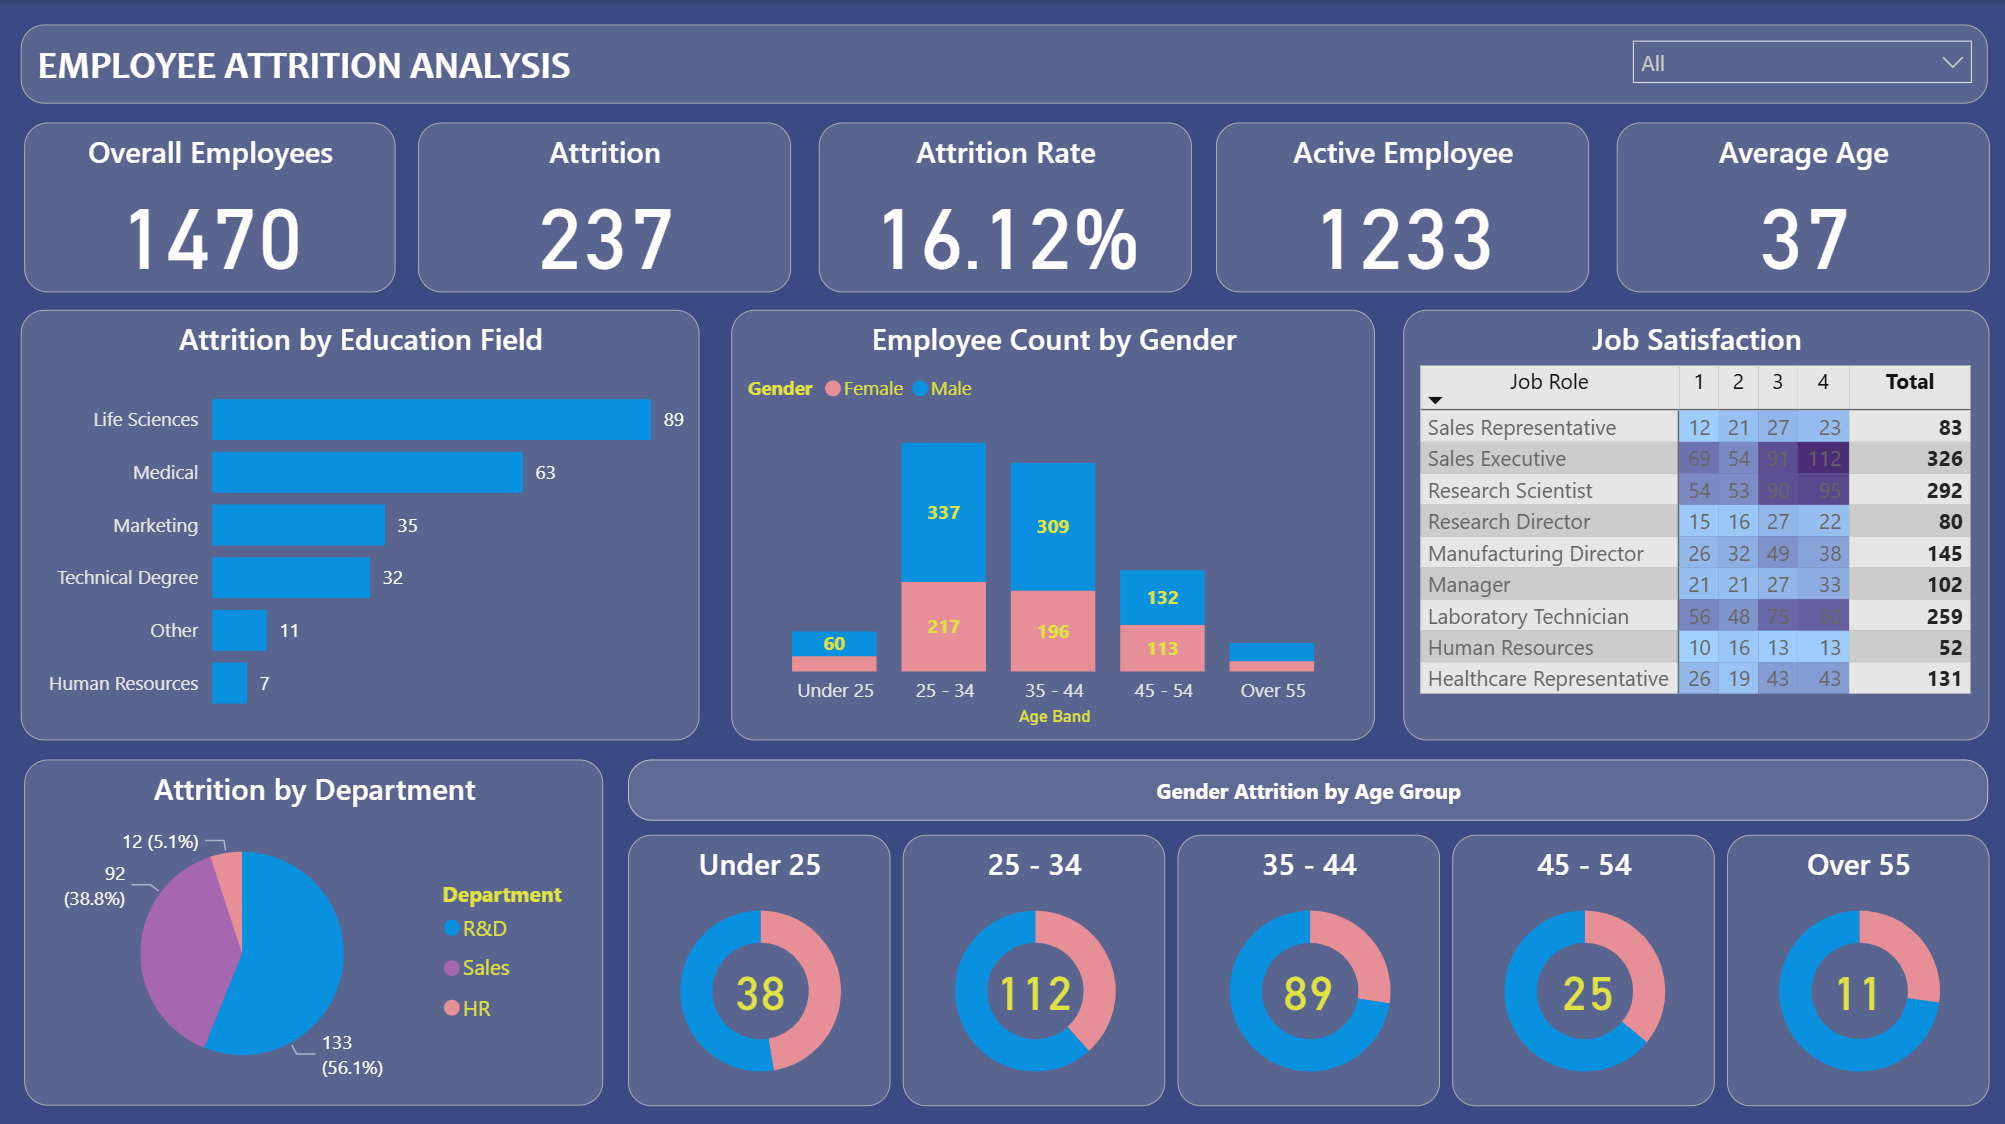

This screenshot's page, from the dashboard's own definition file:
{"tool":"powerbi","page":{"name":"Page 1","canvas":[1280,720],"ordinal":0},"visuals":[{"type":"textbox","box":[14.5,15.6,1250.3,50.1],"z":0},{"type":"card","title":"Overall Employees","fields":{"Values":["Sum(HR data.Employee Count)"]},"box":[16.7,77.9,235.8,107.9],"z":1000},{"type":"card","title":"Attrition","fields":{"Values":["Sum(HR data.Attrion Count)"]},"box":[267,77.9,236.9,107.9],"z":2000},{"type":"card","title":"Attrition Rate","fields":{"Values":["HR data.Attrition Rate"]},"box":[521.7,77.9,236.9,107.9],"z":3000},{"type":"card","title":"Active Employee","fields":{"Values":["HR data.Active Employees"]},"box":[774.2,77.9,236.9,107.9],"z":4000},{"type":"card","title":"Average Age","fields":{"Values":["Avg(HR data.Age)"]},"box":[1028.9,77.9,236.9,107.9],"z":5000},{"type":"pieChart","title":"Attrition by Department","fields":{"Category":["HR data.Department"],"Y":["Sum(HR data.Attrion Count)"]},"box":[16.7,482.8,368.2,220.2],"z":6000},{"type":"columnChart","title":"Employee Count by Gender","fields":{"Series":["HR data.Gender"],"Category":["HR data.CF_age band"],"Y":["CountNonNull(HR data.Gender)"]},"box":[466.1,196.9,409.3,273.6],"z":7000},{"type":"pivotTable","title":"Job Satisfaction","fields":{"Rows":["HR data.Job Role"],"Columns":["HR data.Job Satisfaction"],"Values":["Sum(HR data.Employee Count)"]},"box":[893.2,196.9,372.6,273.6],"z":8000},{"type":"barChart","title":"Attrition by Education Field","fields":{"Category":["HR data.Education Field"],"Y":["Sum(HR data.Attrion Count)"]},"box":[14.5,196.9,431.6,273.6],"z":9000},{"type":"donutChart","title":"25 - 34","fields":{"Category":["HR data.Gender"],"Y":["Sum(HR data.Attrion Count)"],"Series":["HR data.CF_age band"]},"box":[575.1,530.6,166.9,172.4],"z":10000},{"type":"donutChart","title":"Over 55","fields":{"Category":["HR data.Gender"],"Y":["Sum(HR data.Attrion Count)"],"Series":["HR data.CF_age band"]},"box":[1099,530.6,166.9,172.4],"z":11000},{"type":"donutChart","title":"35 - 44","fields":{"Category":["HR data.Gender"],"Y":["Sum(HR data.Attrion Count)"],"Series":["HR data.CF_age band"]},"box":[749.7,530.6,166.9,172.4],"z":12000},{"type":"donutChart","title":"45 - 54","fields":{"Category":["HR data.Gender"],"Y":["Sum(HR data.Attrion Count)"],"Series":["HR data.CF_age band"]},"box":[924.4,530.6,166.9,172.4],"z":13000},{"type":"donutChart","title":"Under 25","fields":{"Category":["HR data.Gender"],"Y":["Sum(HR data.Attrion Count)"],"Series":["HR data.CF_age band"]},"box":[400.4,530.6,166.9,172.4],"z":14000},{"type":"textbox","box":[400.4,482.8,864.3,38.9],"z":15000},{"type":"card","fields":{"Values":["Sum(HR data.Attrion Count)"]},"box":[456,605,57,48],"z":16000},{"type":"card","fields":{"Values":["Sum(HR data.Attrion Count)"]},"box":[1154,605,57,48],"z":17000},{"type":"card","fields":{"Values":["Sum(HR data.Attrion Count)"]},"box":[982,605,57,48],"z":18000},{"type":"card","fields":{"Values":["Sum(HR data.Attrion Count)"]},"box":[804,605,57,48],"z":19000},{"type":"card","fields":{"Values":["Sum(HR data.Attrion Count)"]},"box":[622.8,605,71,48.2],"z":20000},{"type":"slicer","fields":{"Values":["HR data.Education"]},"box":[1028.9,15.6,235.8,42.3],"z":21000}]}

Visuals, with their boxes in screenshot pixels (x1, y1, x2, y2), scaled from the page's 1280x720 canvas onto the 2005x1124 screenshot:
textbox: {"left": 23, "top": 24, "right": 1981, "bottom": 103}
"Overall Employees" card: {"left": 26, "top": 122, "right": 396, "bottom": 290}
"Attrition" card: {"left": 418, "top": 122, "right": 789, "bottom": 290}
"Attrition Rate" card: {"left": 817, "top": 122, "right": 1188, "bottom": 290}
"Active Employee" card: {"left": 1213, "top": 122, "right": 1584, "bottom": 290}
"Average Age" card: {"left": 1612, "top": 122, "right": 1983, "bottom": 290}
"Attrition by Department" pieChart: {"left": 26, "top": 754, "right": 603, "bottom": 1097}
"Employee Count by Gender" columnChart: {"left": 730, "top": 307, "right": 1371, "bottom": 735}
"Job Satisfaction" pivotTable: {"left": 1399, "top": 307, "right": 1983, "bottom": 735}
"Attrition by Education Field" barChart: {"left": 23, "top": 307, "right": 699, "bottom": 735}
"25 - 34" donutChart: {"left": 901, "top": 828, "right": 1162, "bottom": 1097}
"Over 55" donutChart: {"left": 1721, "top": 828, "right": 1983, "bottom": 1097}
"35 - 44" donutChart: {"left": 1174, "top": 828, "right": 1436, "bottom": 1097}
"45 - 54" donutChart: {"left": 1448, "top": 828, "right": 1709, "bottom": 1097}
"Under 25" donutChart: {"left": 627, "top": 828, "right": 889, "bottom": 1097}
textbox: {"left": 627, "top": 754, "right": 1981, "bottom": 814}
card - Sum(HR data.Attrion Count): {"left": 714, "top": 944, "right": 804, "bottom": 1019}
card - Sum(HR data.Attrion Count): {"left": 1808, "top": 944, "right": 1897, "bottom": 1019}
card - Sum(HR data.Attrion Count): {"left": 1538, "top": 944, "right": 1627, "bottom": 1019}
card - Sum(HR data.Attrion Count): {"left": 1259, "top": 944, "right": 1349, "bottom": 1019}
card - Sum(HR data.Attrion Count): {"left": 976, "top": 944, "right": 1087, "bottom": 1020}
slicer - HR data.Education: {"left": 1612, "top": 24, "right": 1981, "bottom": 90}
